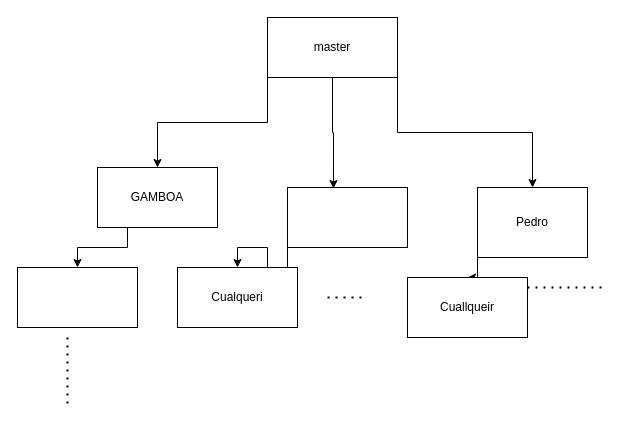
The diagram is 627 pixels wide and 427 high, and some of its shapes have lost their labels. Each missing label, with the centre of its shape:
Cualquier rama a trabajar: point 77,297
Garofalo: point 347,217
